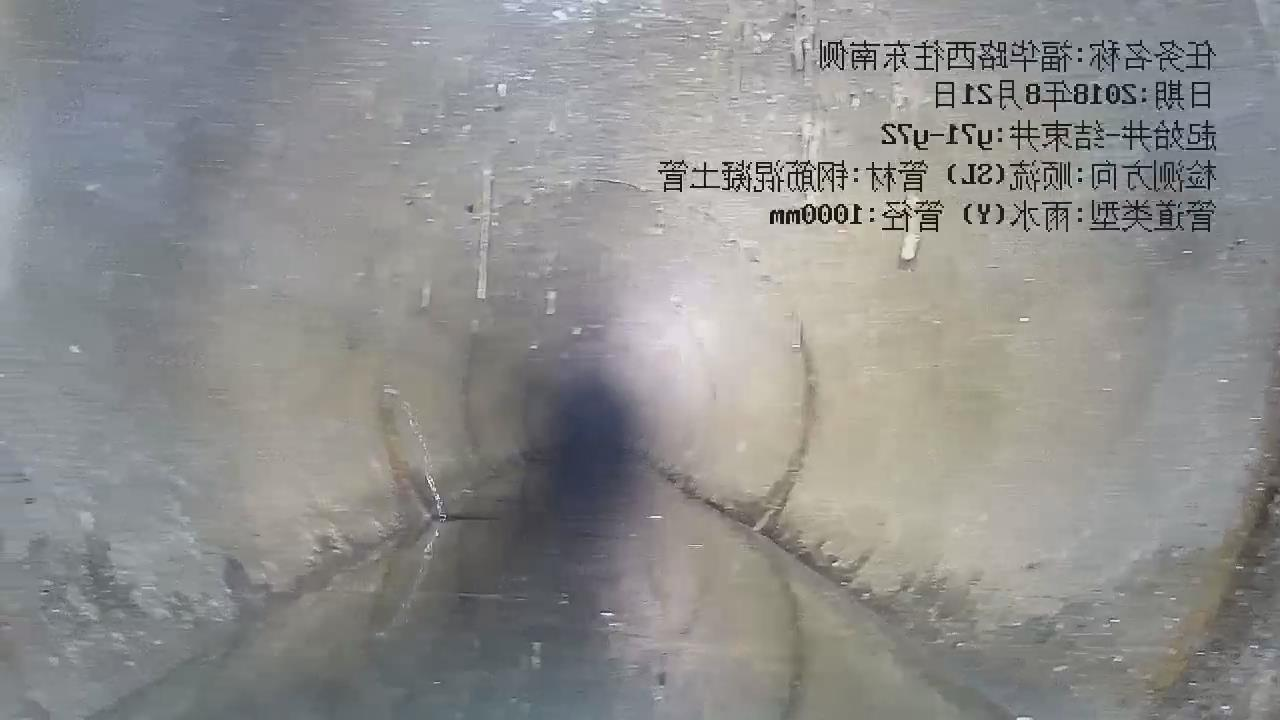SL: (369, 385, 455, 525)
